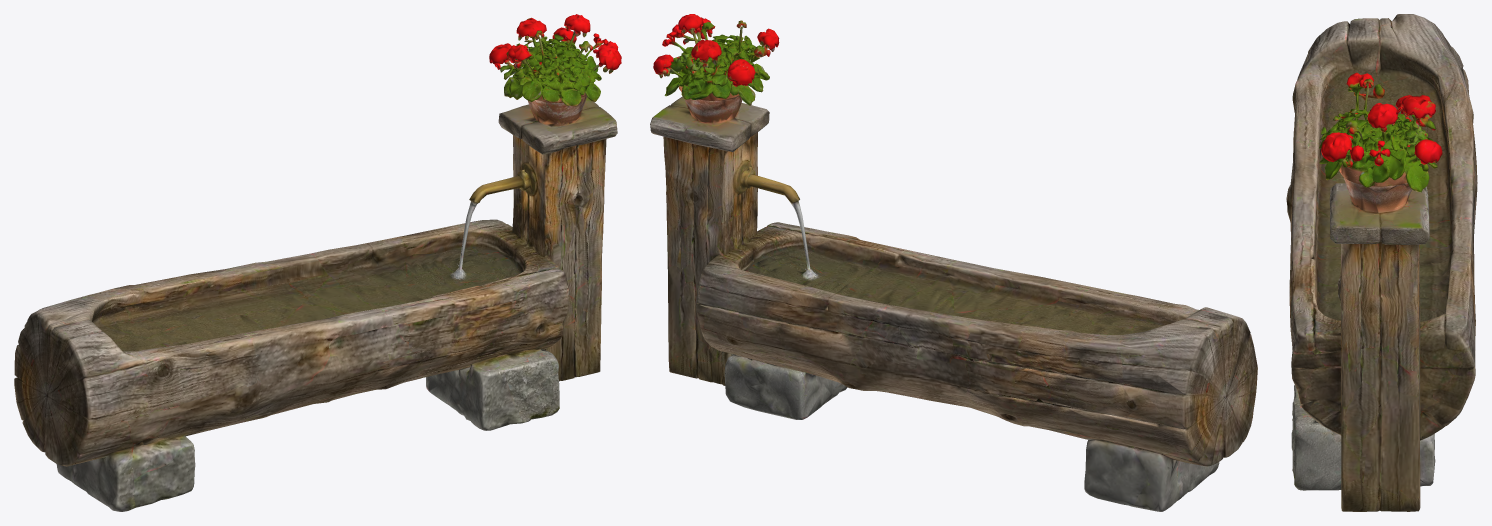
Rendered from fountain.glb.
3 views of the same model, side by side, from view 1: azimuth 30°, elevation 25°; view 2: azimuth 150°, elevation 25°; view 3: azimuth 270°, elevation 25° (orthographic). The views are drawn at different scales.
Bounding box in the file's own units: 1.9 × 1.16 × 0.4783.
Materials: 1 (1 with a texture image).
